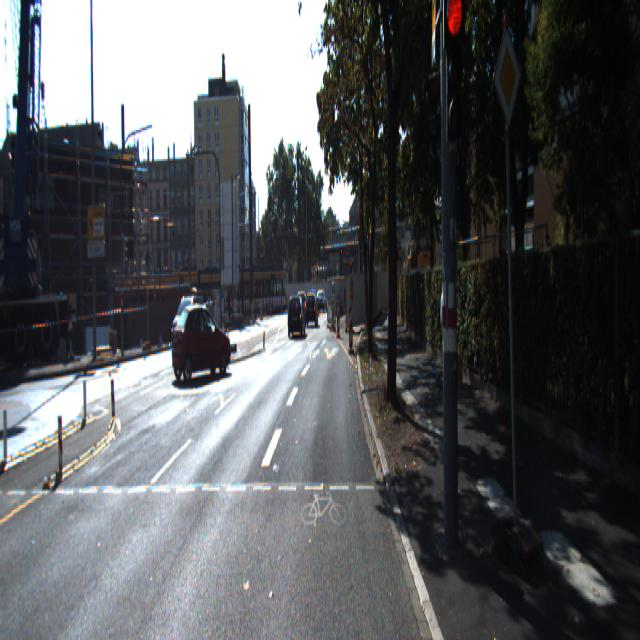Car: (170, 299, 233, 380), (170, 287, 206, 343), (286, 290, 306, 335), (304, 291, 318, 327)
